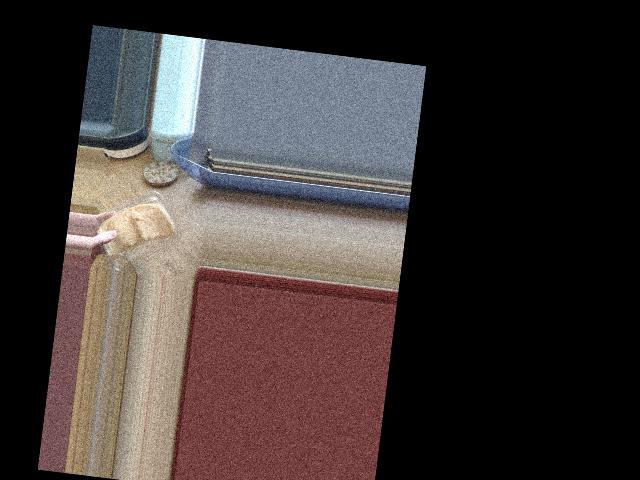cheese: (96, 177, 196, 278)
